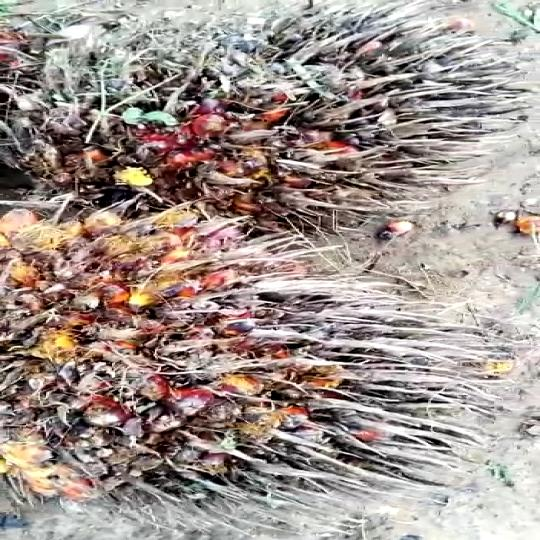terlalu masak: (0, 206, 499, 538), (0, 7, 512, 238)
